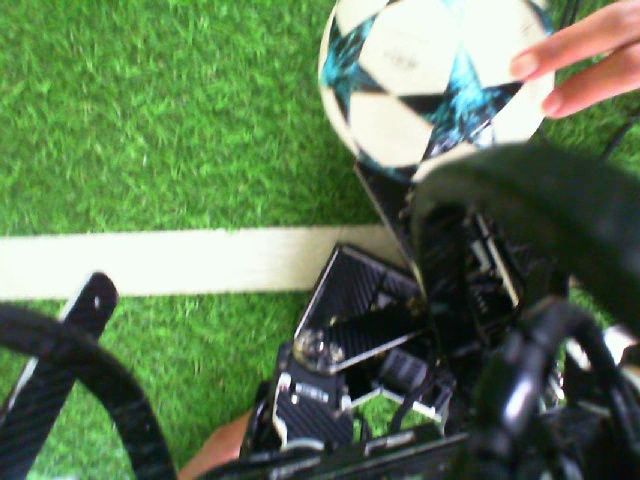ball: (315, 1, 557, 190)
